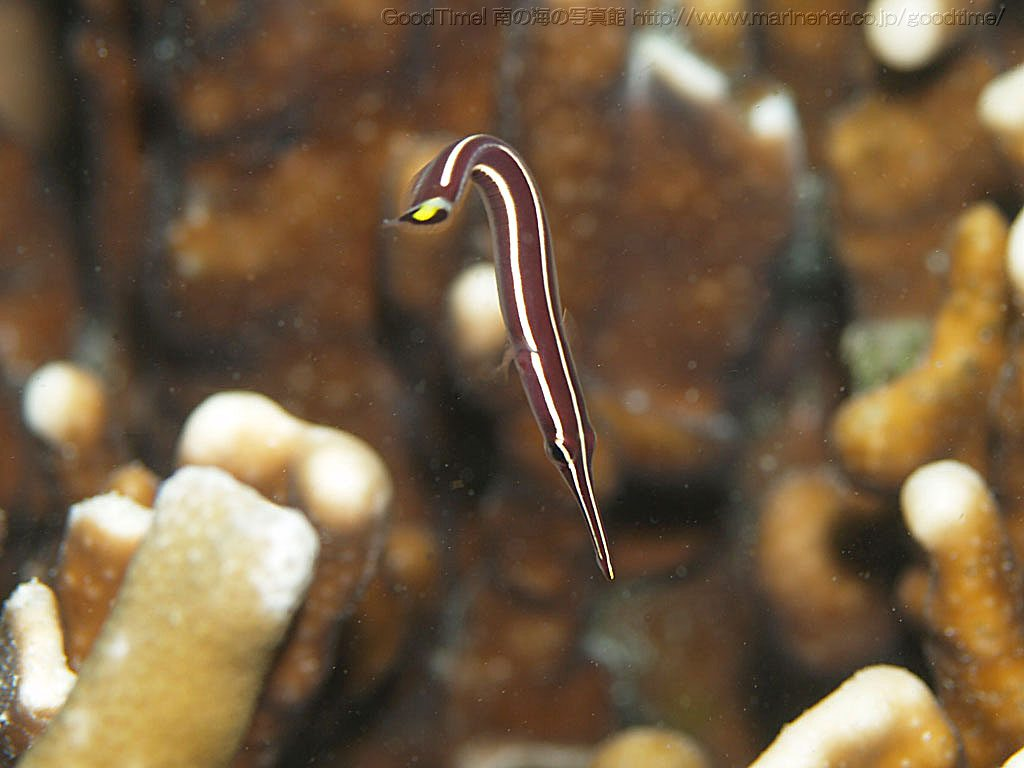gonzui: (371, 100, 671, 606)
